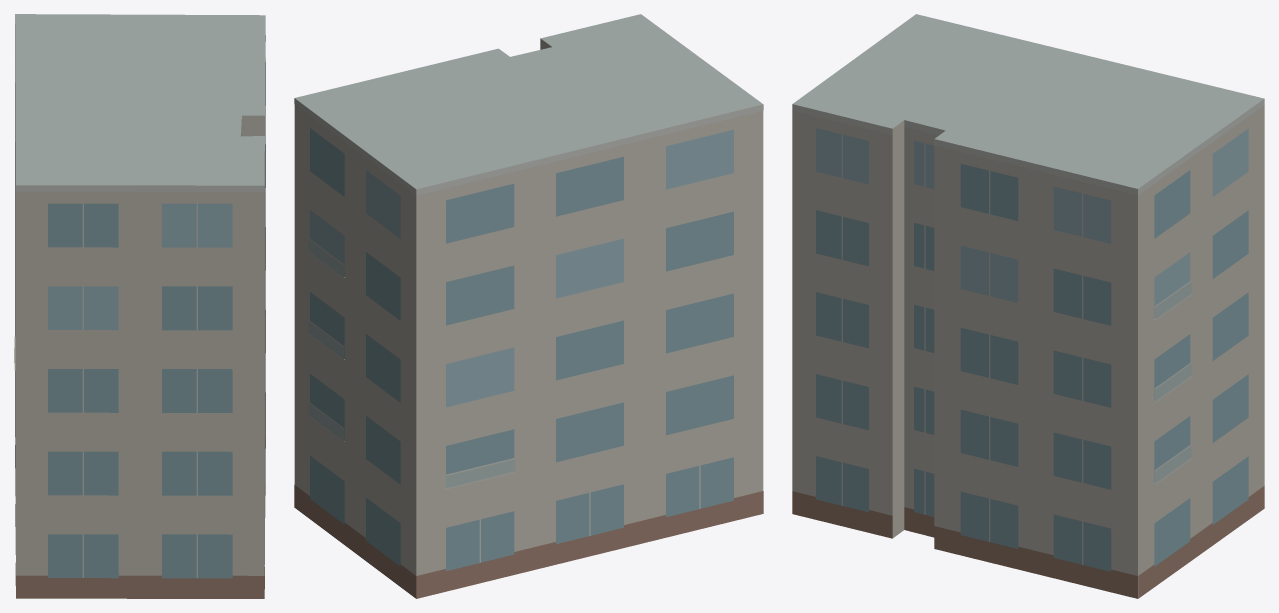
File: survey-upis-32869803.glb
3 views of the same model, side by side, from view 1: azimuth 30°, elevation 25°; view 2: azimuth 150°, elevation 25°; view 3: azimuth 270°, elevation 25° (orthographic).
Visible parts, largest first — view 1: survey-upis-32869803.tmp; view 2: survey-upis-32869803.tmp; view 3: survey-upis-32869803.tmp.
Boxes of the visible parts, x1,y1,x2,y2 form: survey-upis-32869803.tmp: (14,14,265,598); survey-upis-32869803.tmp: (294,14,763,598); survey-upis-32869803.tmp: (792,14,1264,598).
Bounding box in the file's own units: 14.34 × 15.65 × 16.35.
